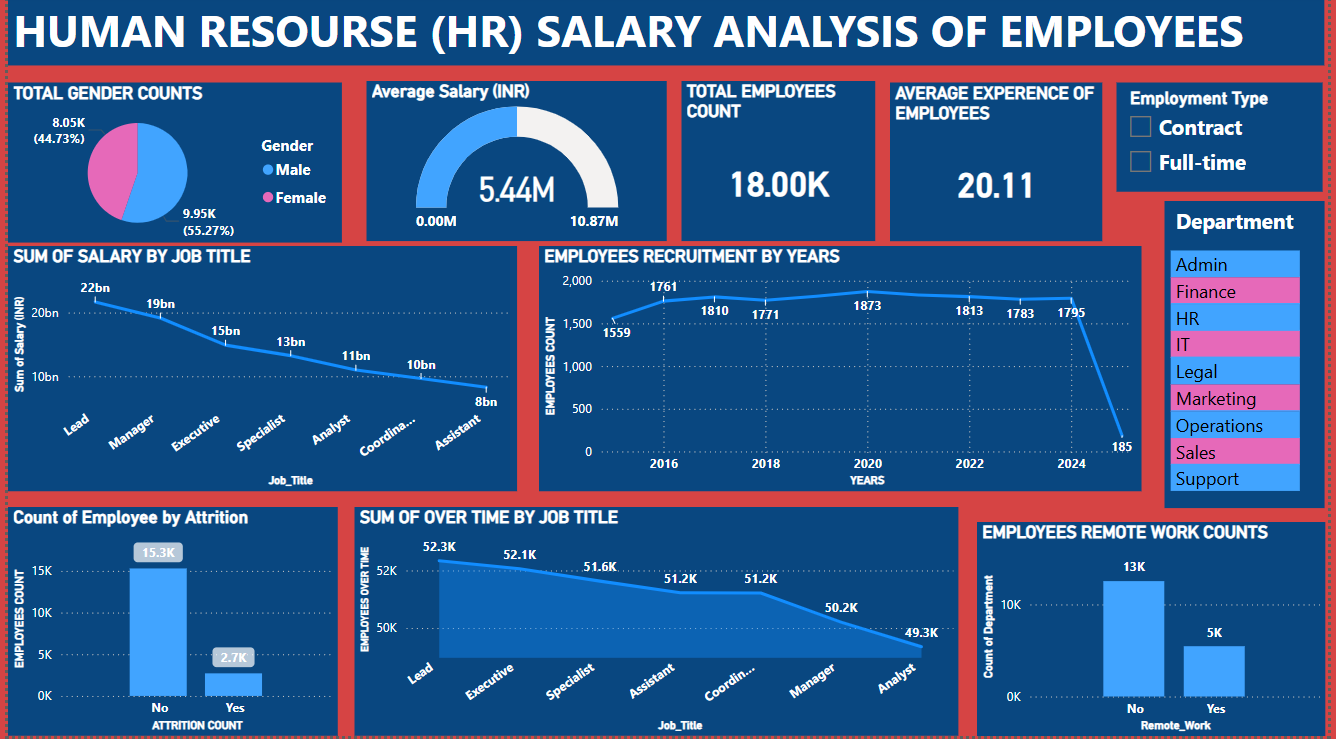

Layout of this report page (visuals, bound fields, positions):
{"tool":"powerbi","page":{"name":"Page 1","canvas":[1280,720],"ordinal":0},"visuals":[{"type":"pieChart","title":"TOTAL GENDER COUNTS","fields":{"Category":["Sheet1.Gender"],"Y":["CountNonNull(Sheet1.First_Name)"]},"box":[0,85.8,323.8,155.4],"z":0},{"type":"gauge","title":"Average Salary (INR)","fields":{"Y":["Avg(Sheet1.Salary (INR))"]},"box":[348.1,84.2,291.5,155.4],"z":1000},{"type":"slicer","fields":{"Values":["Sheet1.Employment_Type"]},"box":[1076,86,200,106],"z":2000},{"type":"tableEx","fields":{"Values":["Sheet1.Department"]},"box":[1122.1,200.8,155.4,297.9],"z":3000},{"type":"lineChart","title":"SUM OF SALARY BY JOB TITLE","fields":{"Y":["Sum(Sheet1.Salary (INR))"],"Category":["Sheet1.Job_Title"]},"box":[0,243.8,493.6,237.7],"z":4000},{"type":"card","title":"TOTAL EMPLOYEES COUNT","fields":{"Values":["CountNonNull(Sheet1.Employee_ID)"]},"box":[654.2,84.2,187.8,155.4],"z":5000},{"type":"lineStackedColumnComboChart","title":"Count of Employee by Attrition","fields":{"Category":["Sheet1.Attrition"],"Y":["CountNonNull(Sheet1.Employee_ID)"]},"box":[0,498,320,222],"z":6000},{"type":"areaChart","title":"SUM OF OVER TIME BY JOB TITLE","fields":{"Y":["Sum(Sheet1.Overtime_Hours)"],"Category":["Sheet1.Job_Title"]},"box":[336,498,586,222],"z":7000},{"type":"lineChart","title":"EMPLOYEES RECRUITMENT BY YEARS","fields":{"Category":["Sheet1.Joining Year"],"Y":["CountNonNull(Sheet1.Department)"]},"box":[496.7,242.3,611.7,236.2],"z":8000},{"type":"card","title":"AVERAGE EXPERENCE OF EMPLOYEES","fields":{"Values":["Avg(Sheet1.Experience_Years)"]},"box":[856,86,206,154],"z":9000},{"type":"columnChart","title":"EMPLOYEES REMOTE WORK COUNTS","fields":{"Y":["CountNonNull(Sheet1.Employee_ID)"],"Category":["Sheet1.Remote_Work"]},"box":[940,512,338,208],"z":10000},{"type":"textbox","box":[0,0,1277.6,69.6],"z":11000}]}

Visuals, with their boxes in screenshot pixels (x1, y1, x2, y2), scaled from the page's 1280x720 canvas onto the 1336x739 screenshot:
"TOTAL GENDER COUNTS" pieChart: [0, 88, 338, 248]
"Average Salary (INR)" gauge: [363, 86, 668, 246]
slicer - Sheet1.Employment_Type: [1123, 88, 1332, 197]
tableEx - Sheet1.Department: [1171, 206, 1333, 512]
"SUM OF SALARY BY JOB TITLE" lineChart: [0, 250, 515, 494]
"TOTAL EMPLOYEES COUNT" card: [683, 86, 879, 246]
"Count of Employee by Attrition" lineStackedColumnComboChart: [0, 511, 334, 738]
"SUM OF OVER TIME BY JOB TITLE" areaChart: [351, 511, 962, 738]
"EMPLOYEES RECRUITMENT BY YEARS" lineChart: [518, 249, 1157, 491]
"AVERAGE EXPERENCE OF EMPLOYEES" card: [893, 88, 1108, 246]
"EMPLOYEES REMOTE WORK COUNTS" columnChart: [981, 526, 1334, 738]
textbox: [0, 0, 1333, 71]
